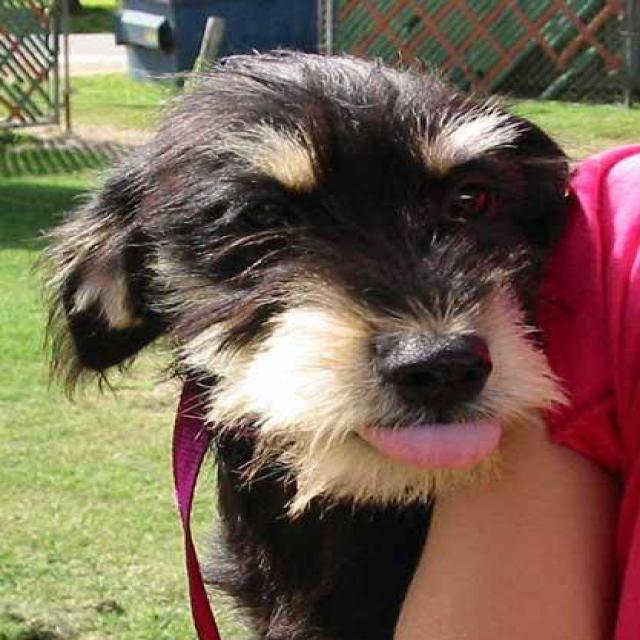dog: (26, 45, 639, 639)
